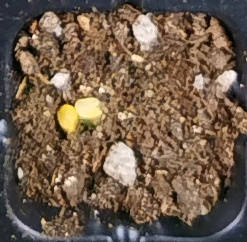chilli seed: (56, 104, 78, 132), (74, 97, 102, 118)
